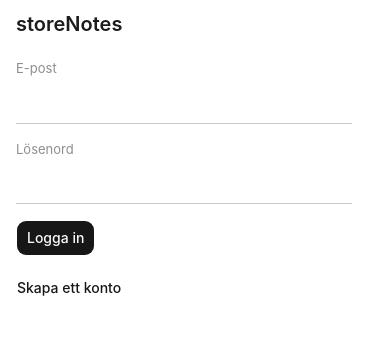
Scenario: signing in › explains wrong credentials
The image size is (369, 350).
Step 1. Type "anna@example.com" into the field labelled "E-post" → (184, 103), box top-left (16, 82), bottom-right (352, 124)
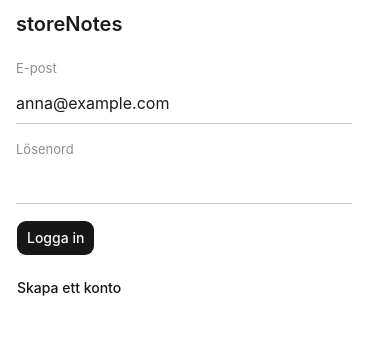
Step 2. Type "wrong password" into the password field labelled "Lösenord" → (184, 184), box top-left (16, 163), bottom-right (352, 204)
Then press Enter
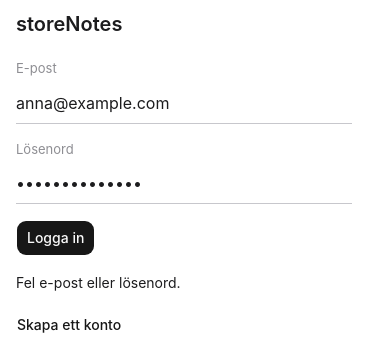
Check: the message reads "Fel e-post eller lösenord.", box top-left (16, 274), bottom-right (181, 291)
